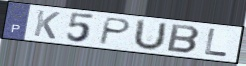5: (66, 13, 98, 45)
B: (165, 23, 202, 55)
K: (32, 9, 62, 41)
L: (203, 28, 230, 58)
P: (97, 16, 134, 46)
U: (131, 18, 169, 51)
